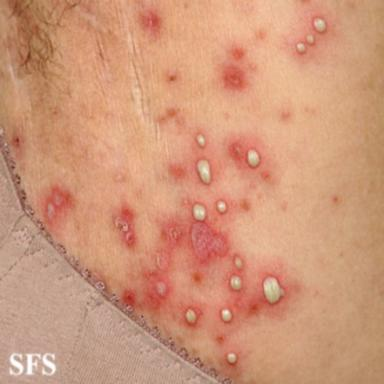Impetigo: (144, 224, 181, 308), (191, 222, 228, 261), (45, 186, 73, 222), (229, 142, 260, 168), (115, 207, 135, 246), (140, 9, 161, 38), (263, 276, 284, 304), (223, 65, 246, 90), (197, 159, 211, 184), (121, 289, 137, 308), (193, 204, 206, 221), (313, 17, 326, 32), (185, 308, 197, 324), (230, 275, 242, 290), (232, 46, 245, 59), (221, 308, 232, 323), (167, 107, 179, 118), (217, 200, 227, 213), (296, 42, 306, 54), (227, 353, 237, 364), (197, 134, 205, 147), (241, 200, 250, 211), (235, 257, 243, 269), (306, 35, 314, 45)
